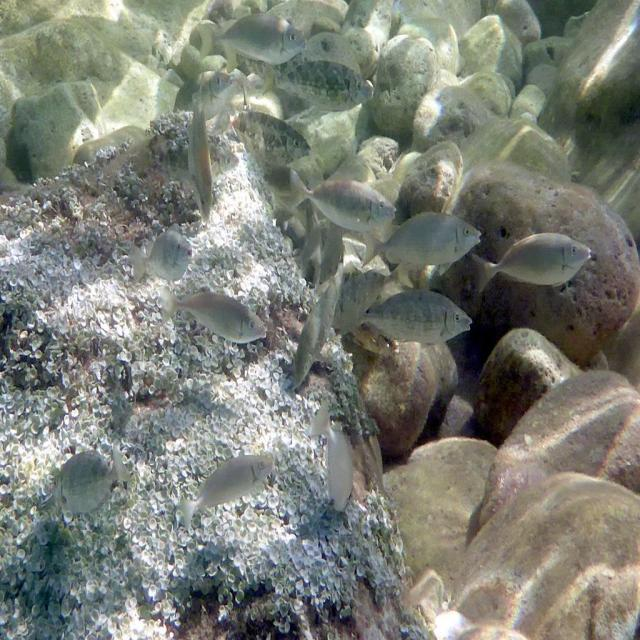Sokar Baligi: (172, 434, 284, 550), (470, 225, 599, 301)
